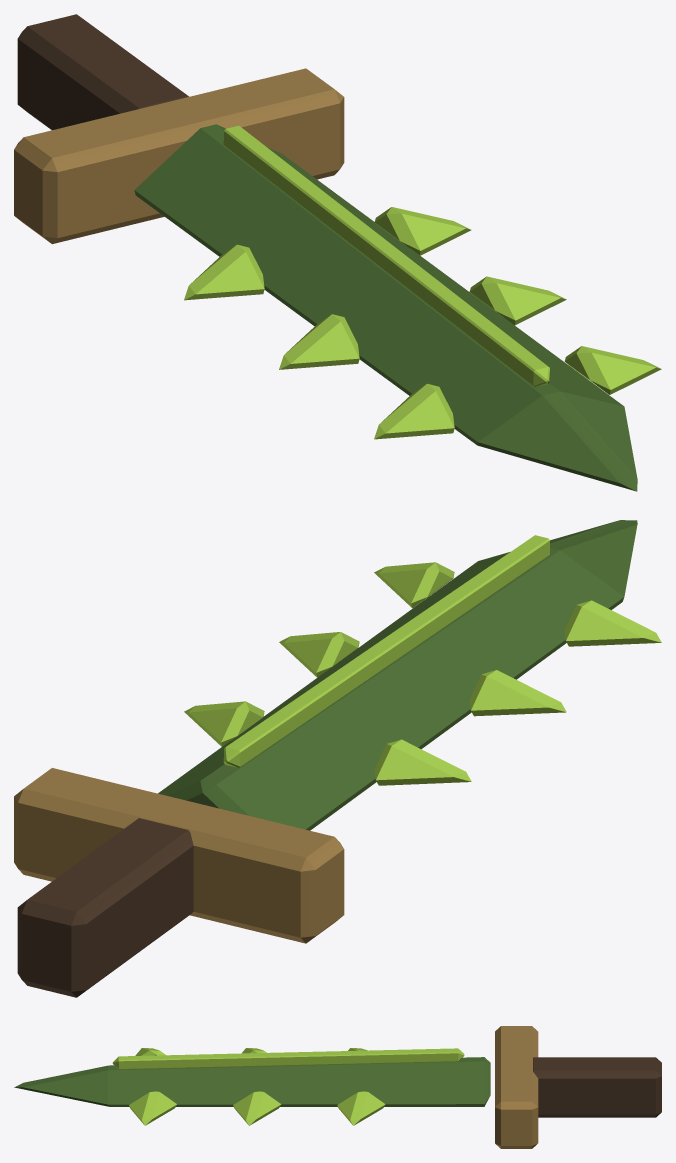
Rendered from warrior_acid.glb.
3 renders of one model, top to bottom at view 1: azimuth 30°, elevation 25°; view 2: azimuth 150°, elevation 25°; view 3: azimuth 270°, elevation 25°, orthographic. The views are drawn at different scales.
Parts seen in each view (by area): view 1: weapon.012; view 2: weapon.012; view 3: weapon.012.
Part boxes in pixels (x1=…): weapon.012: x1=14, y1=14, x2=661, y2=491; weapon.012: x1=14, y1=520, x2=661, y2=997; weapon.012: x1=14, y1=1026, x2=661, y2=1148.
Bounding box in the file's own units: 0.44 × 0.1547 × 1.49.
